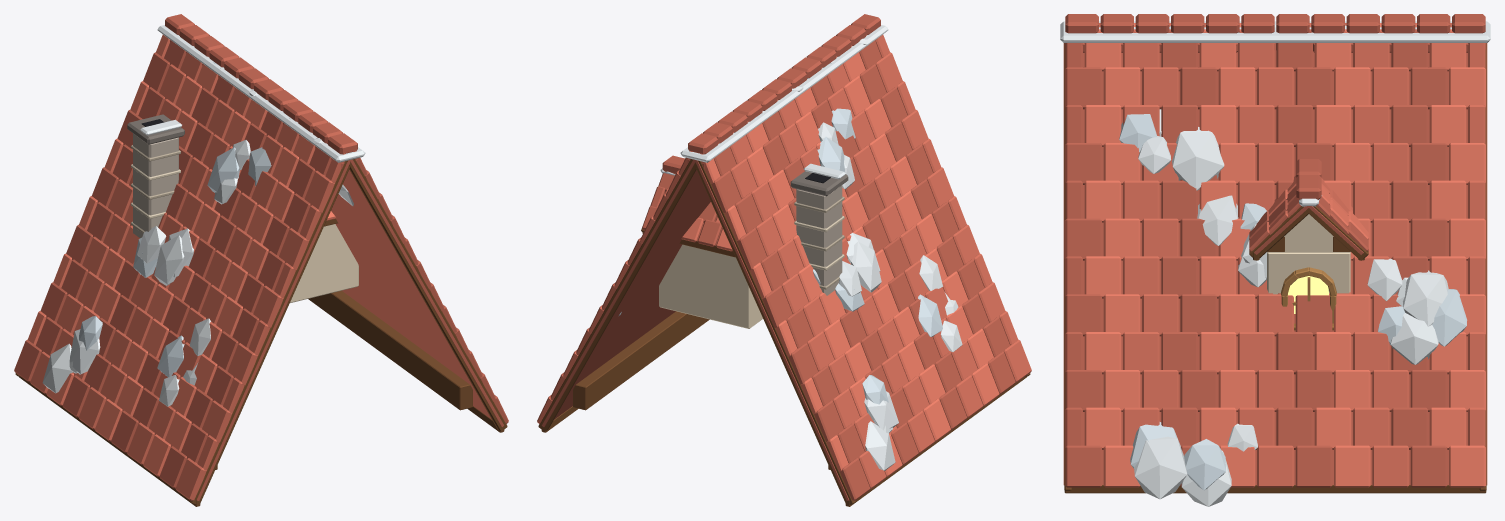
The model's file is mod_roof_aframe_cabin.glb.
3 views of the same model, side by side, from view 1: azimuth 30°, elevation 25°; view 2: azimuth 150°, elevation 25°; view 3: azimuth 270°, elevation 25° (orthographic). The views are drawn at different scales.
Parts seen in each view (by area): view 1: mod_roof_aframe_cabin; view 2: mod_roof_aframe_cabin; view 3: mod_roof_aframe_cabin.
Part boxes in pixels (x1,y1,x2,y2): mod_roof_aframe_cabin: (14, 14, 508, 506); mod_roof_aframe_cabin: (537, 14, 1031, 506); mod_roof_aframe_cabin: (1060, 14, 1490, 506).
Size of the model in its own units: 5.39 by 5.16 by 5.14.
